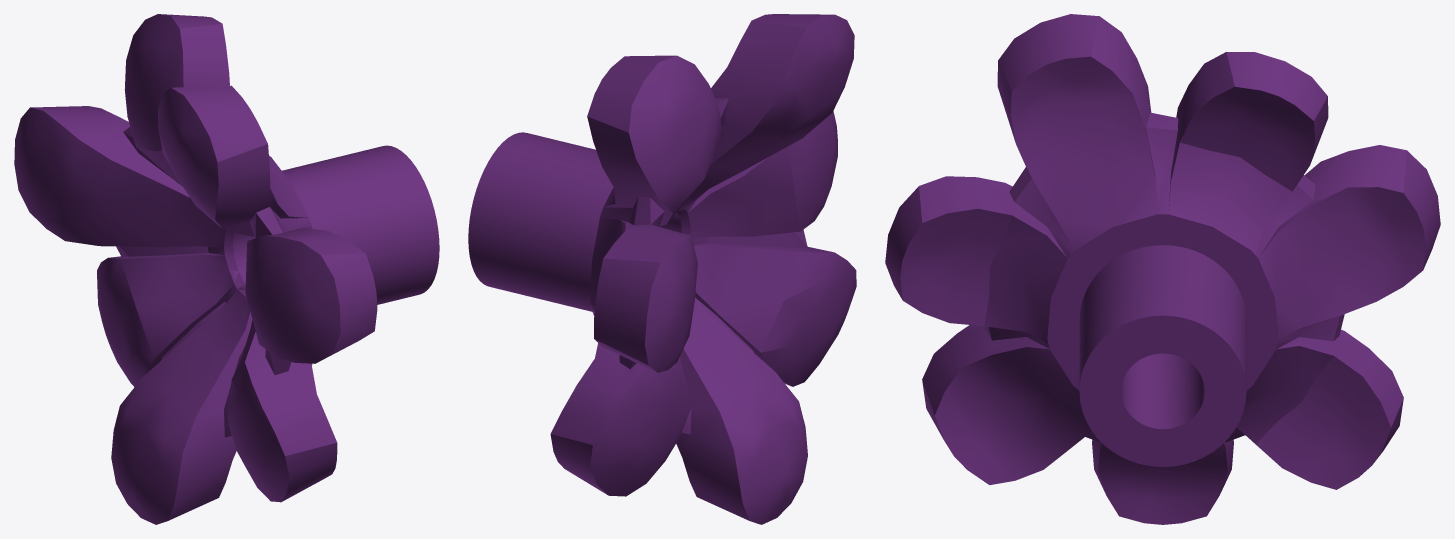
The model's file is plant_flower_with_bar_and_small_pin_hole_medium_lavender.obj.
The picture shows the model from 3 angles, left to right: view 1: azimuth 30°, elevation 25°; view 2: azimuth 150°, elevation 25°; view 3: azimuth 270°, elevation 25°; orthographic projection. The views are drawn at different scales.
Size of the model in its own units: 16.26 by 26.13 by 26.6.
